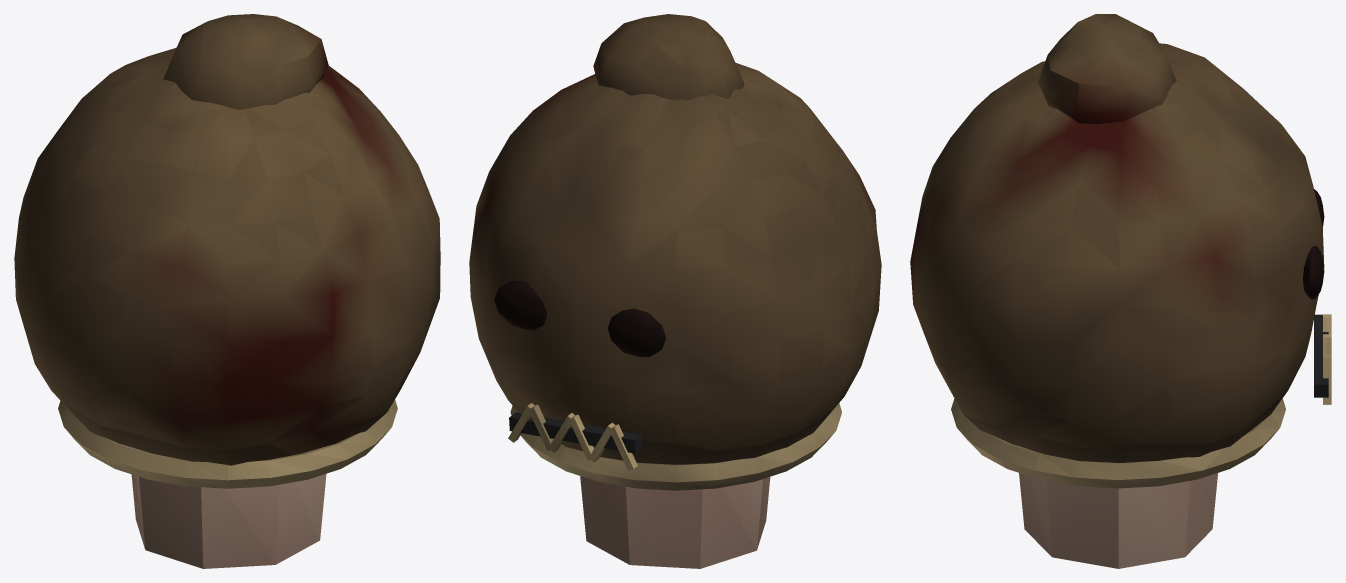
File: KinHead.glb
3 views of the same model, side by side, from view 1: azimuth 30°, elevation 25°; view 2: azimuth 150°, elevation 25°; view 3: azimuth 270°, elevation 25° (orthographic). The views are drawn at different scales.
Visible parts, largest first — view 1: KinHead_burlap, KinHead_skinKin, KinHead_rope; view 2: KinHead_burlap, KinHead_skinKin, KinHead_rope, KinHead_maw, KinHead_metal_dark; view 3: KinHead_burlap, KinHead_skinKin, KinHead_rope, KinHead_maw, KinHead_metal_dark.
Boxes of the visible parts, bbox=[...] form: KinHead_burlap: bbox=[14, 14, 440, 465]; KinHead_skinKin: bbox=[131, 473, 326, 568]; KinHead_rope: bbox=[58, 400, 397, 488]; KinHead_burlap: bbox=[469, 14, 881, 464]; KinHead_skinKin: bbox=[580, 476, 770, 568]; KinHead_rope: bbox=[508, 403, 841, 490]; KinHead_maw: bbox=[494, 281, 666, 357]; KinHead_metal_dark: bbox=[509, 412, 642, 453]; KinHead_burlap: bbox=[910, 14, 1324, 462]; KinHead_skinKin: bbox=[1019, 473, 1217, 568]; KinHead_rope: bbox=[951, 314, 1331, 488]; KinHead_maw: bbox=[1303, 189, 1324, 299]; KinHead_metal_dark: bbox=[1314, 314, 1328, 397].
Size of the model in its own units: 1.39 by 1.9 by 1.43.
